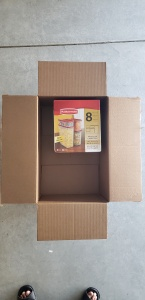innerbox: (37, 95, 109, 204)
outerbox: (1, 61, 145, 241)
product: (53, 98, 102, 154)
